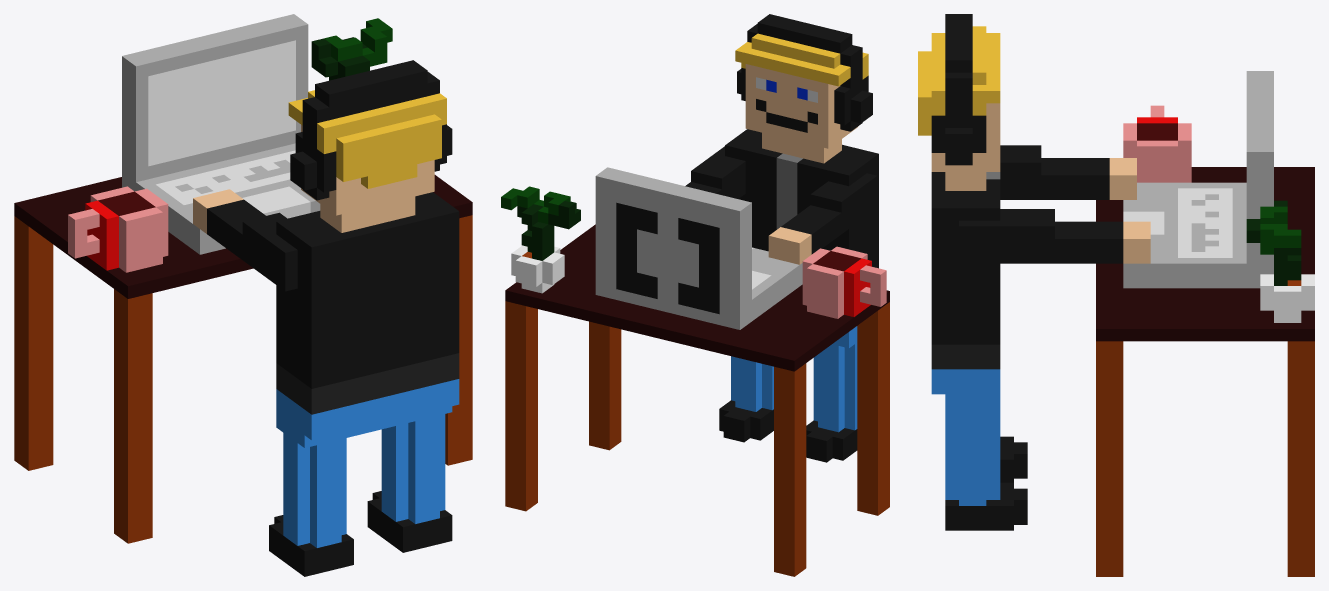
3 renders of one model, left to right at view 1: azimuth 30°, elevation 25°; view 2: azimuth 150°, elevation 25°; view 3: azimuth 270°, elevation 25°, orthographic. The views are drawn at different scales.
Parts seen in each view (by area): view 1: me; view 2: me; view 3: me.
Boxes of the visible parts, x1,y1,x2,y2 form: me: (14, 14, 472, 576); me: (501, 14, 889, 576); me: (918, 14, 1314, 576).
Bounding box in the file's own units: 3.1 × 3.7 × 2.9.
Materials: 1 (1 with a texture image).
